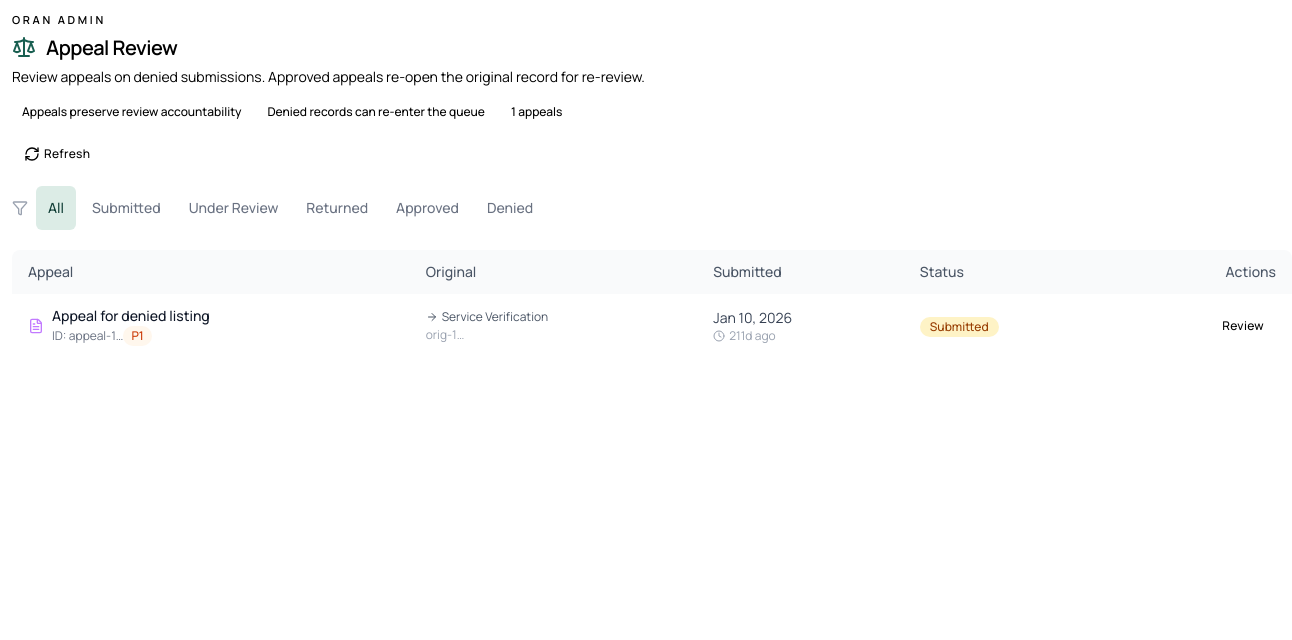
oran admin appeals page › requires notes to deny and surfaces API decision failures
Expected: the text "Appeal for denied listing" is shown, [52, 306, 210, 326]
Click the button "Review" at (1243, 326), box [1210, 310, 1276, 342]
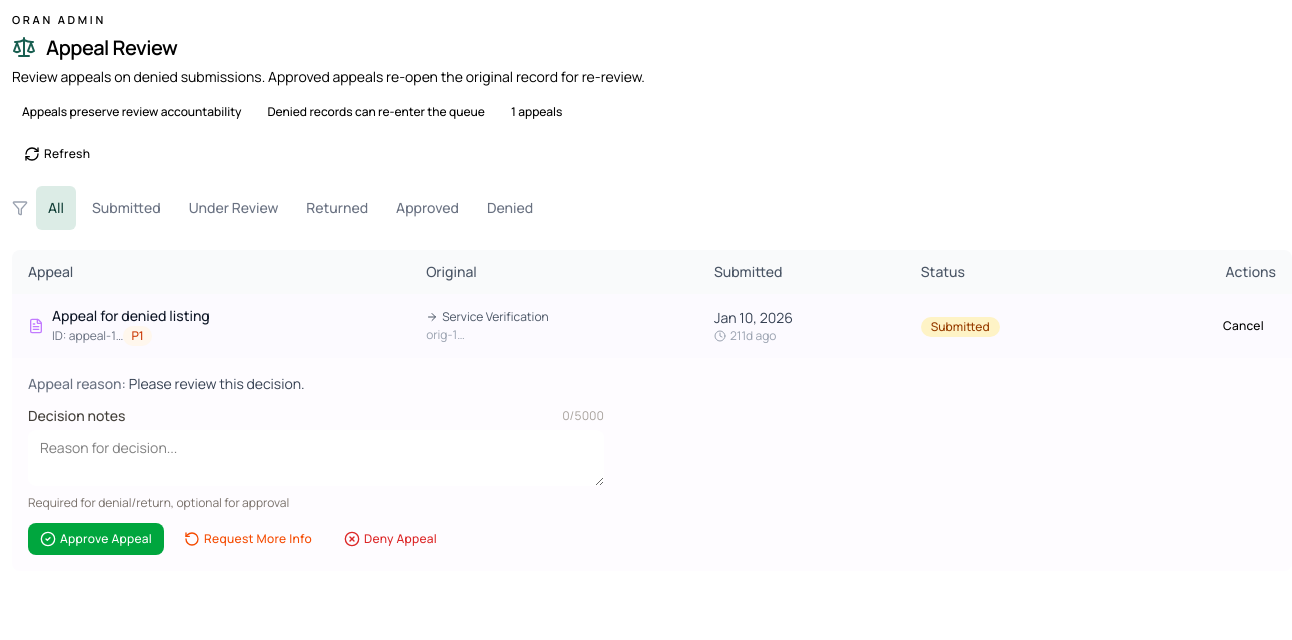
Expected: the button "Deny Appeal" is disabled, [332, 523, 449, 555]
Type "Requires additional evidence." into the text box labelled "Decision notes" at (316, 458), box [28, 430, 604, 486]
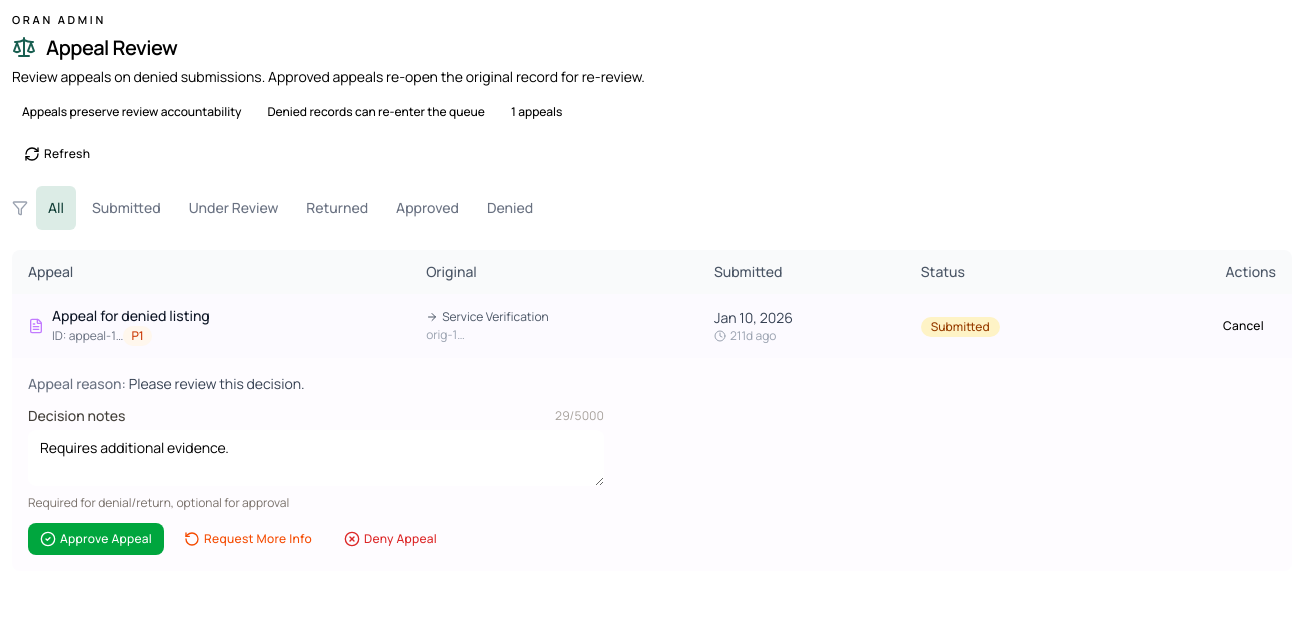
Click the button "Deny Appeal" at (391, 539), box [332, 523, 449, 555]
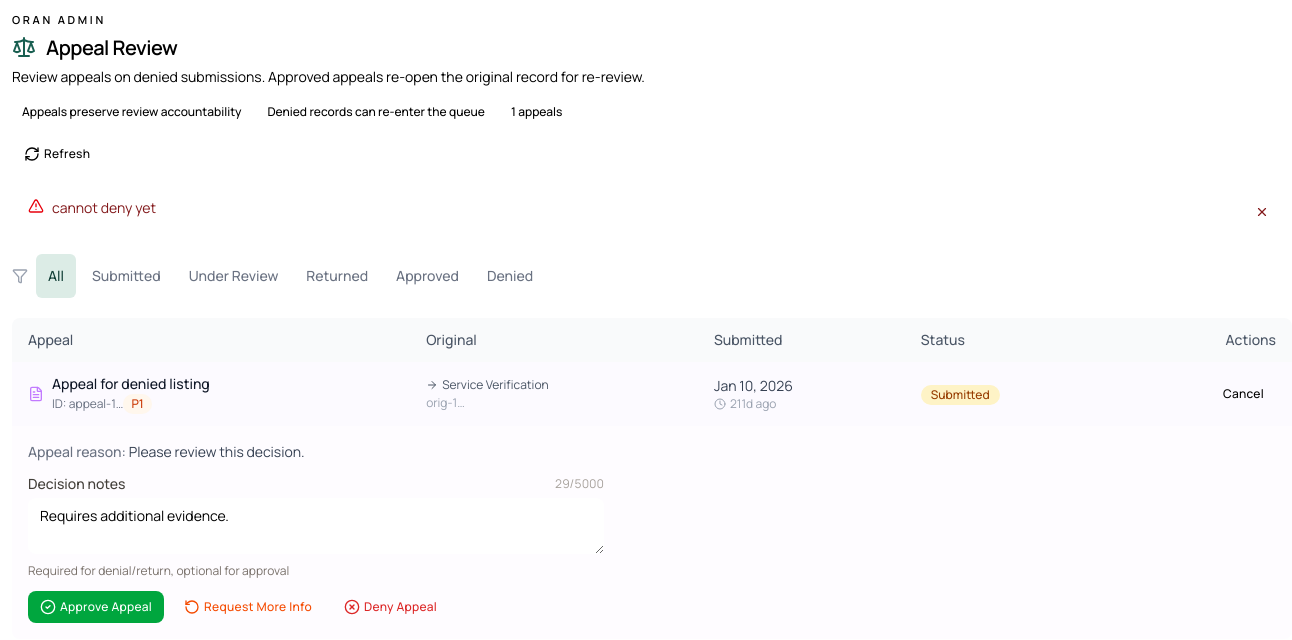
Expected: the button "Cancel" is shown, [1211, 378, 1276, 410]
Expected: the message reads "cannot deny yet", [52, 198, 156, 217]
